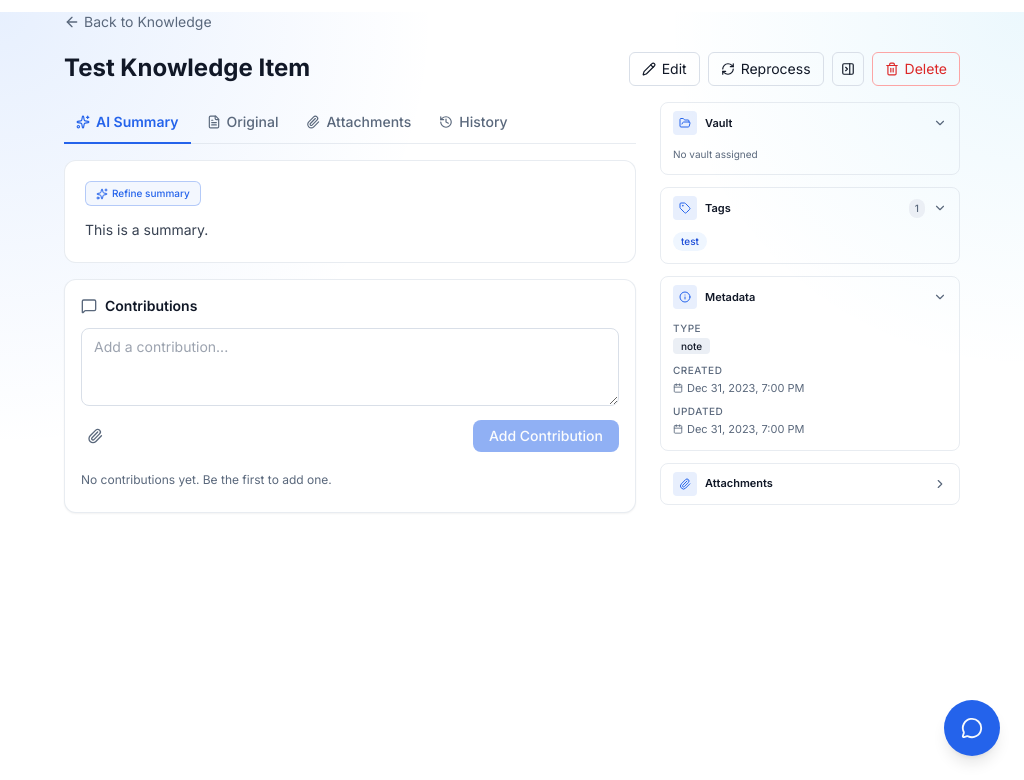
Test: KnowledgeChatPanel › Dynamic Placeholder › Should_ShowBalancedPlaceholder_WhenBalancedSelected
The width and height of the screenshot is (1024, 780).
Expected: the heading "Test Knowledge Item" is shown, [64,52,310,84]
Click the button titled "Chat with this knowledge item": (972, 728) [944,700,1000,756]
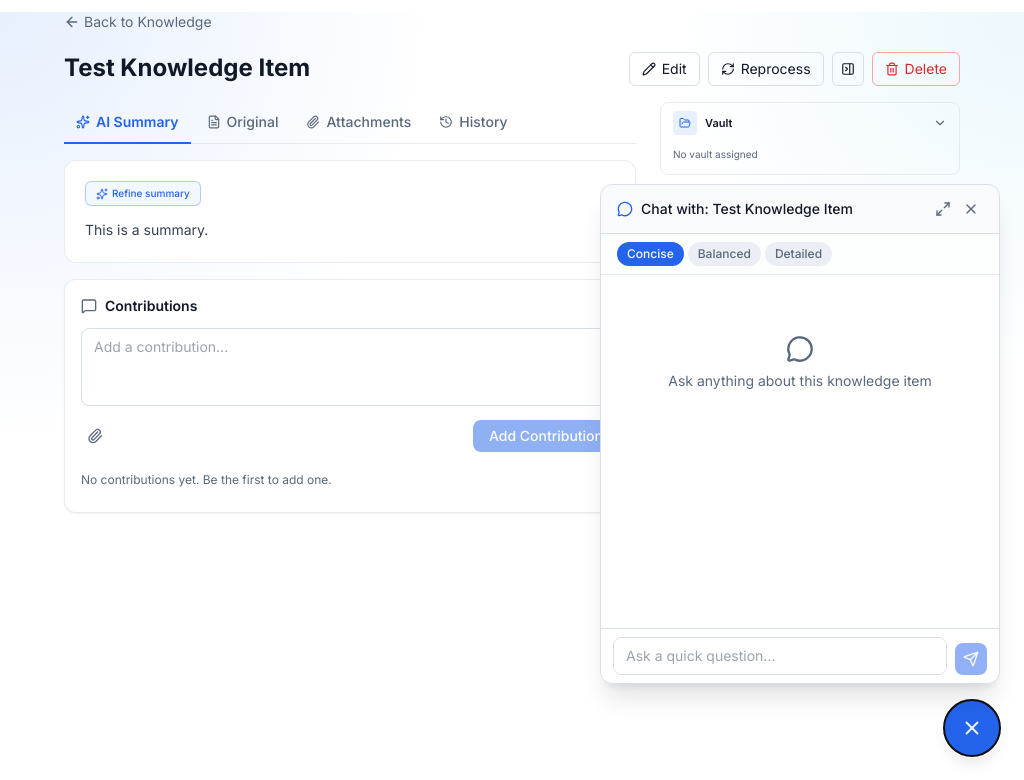
Click the button "Balanced": (724, 254) [688,242,761,266]
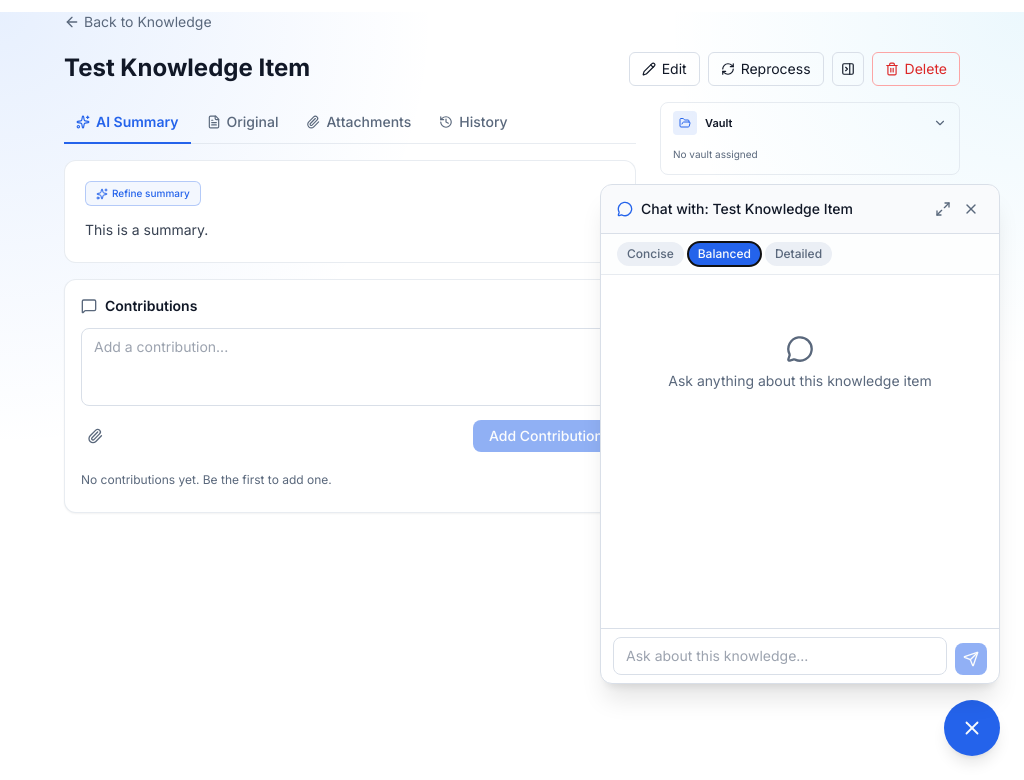
Expected: the text box with placeholder "Ask about this knowledge..." is shown, [613,637,947,675]
